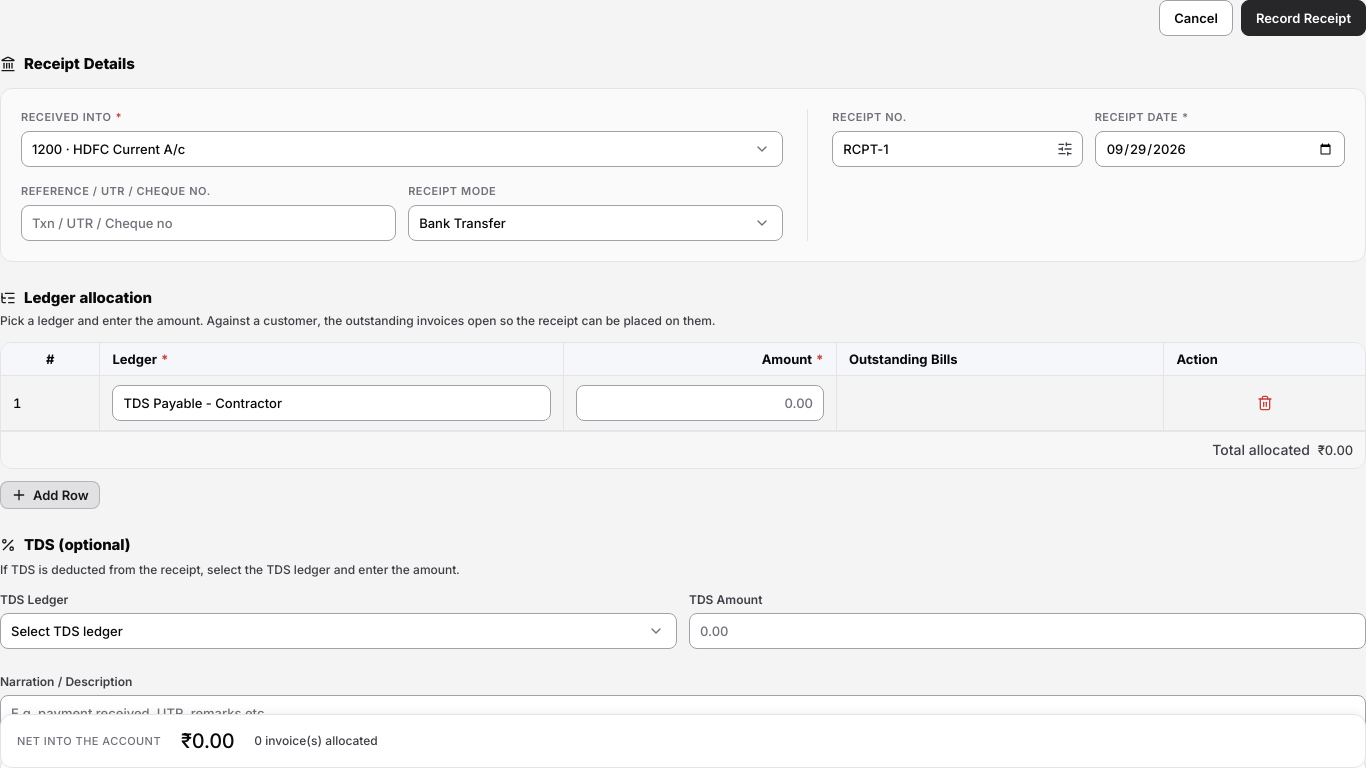
it: money against a customer › names the part left over when only some of it lands on an invoice
The width and height of the screenshot is (1366, 768).
Type "ABC" into the dropdown named "Account, allocation row 1" at (332, 403), box [112,385,551,421]
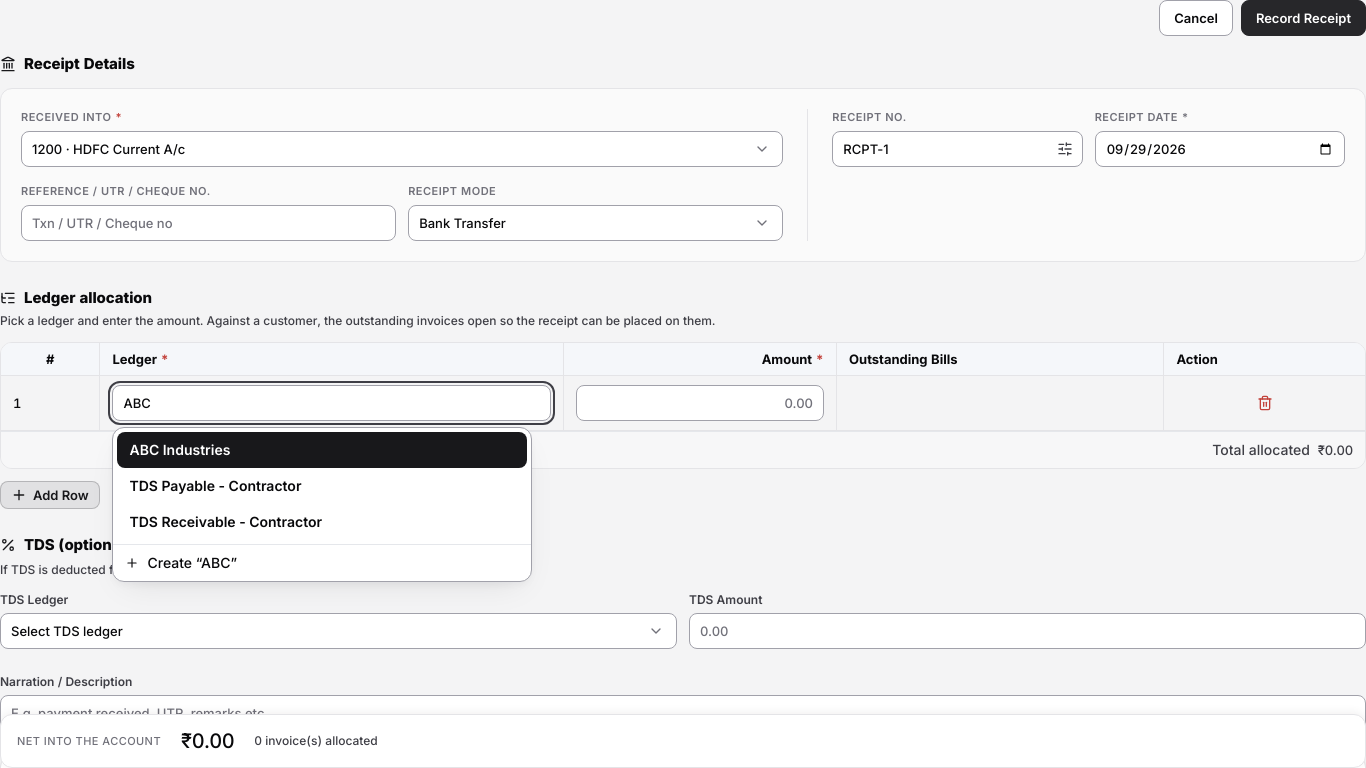
Click the option "ABC Industries" at (180, 450), box [118,432,528,468]
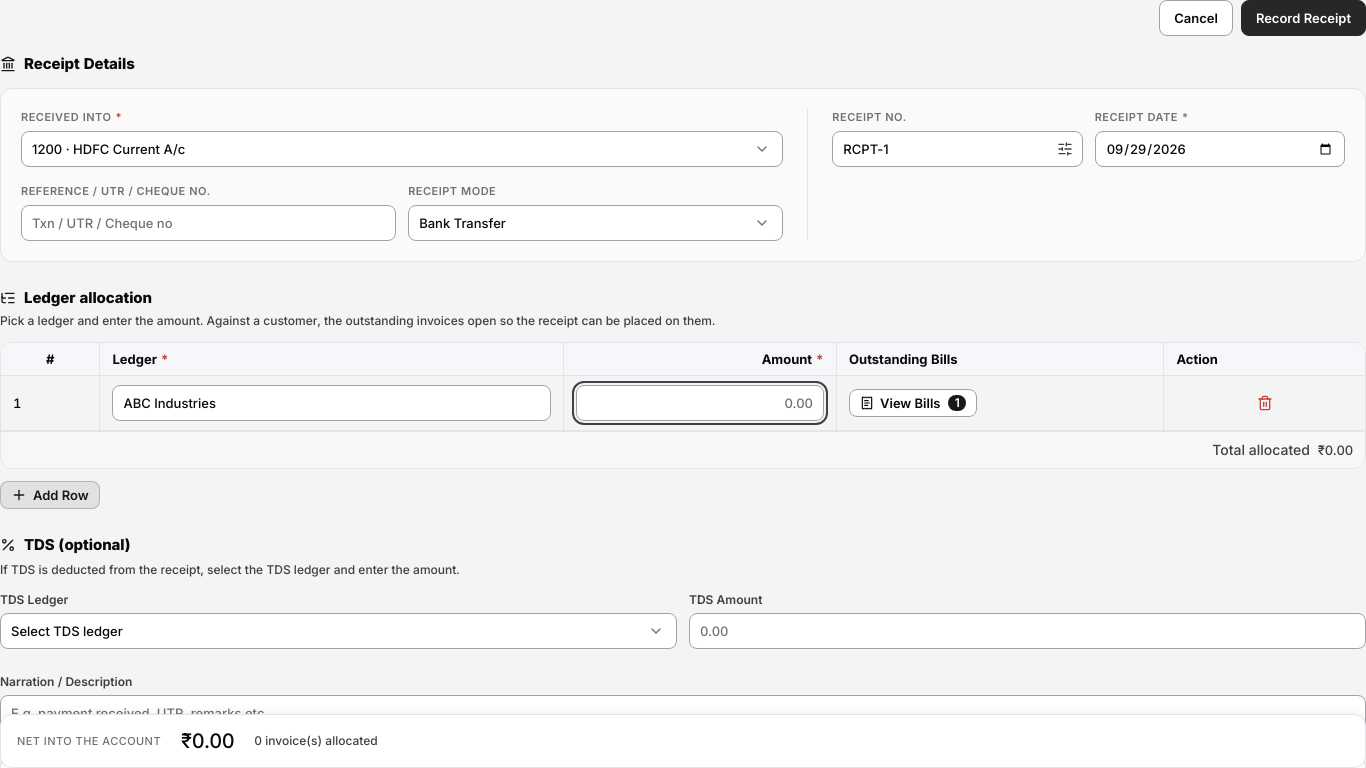
Type "150000" into the number field named "Amount, allocation row 1" at (700, 403), box [576,385,824,421]
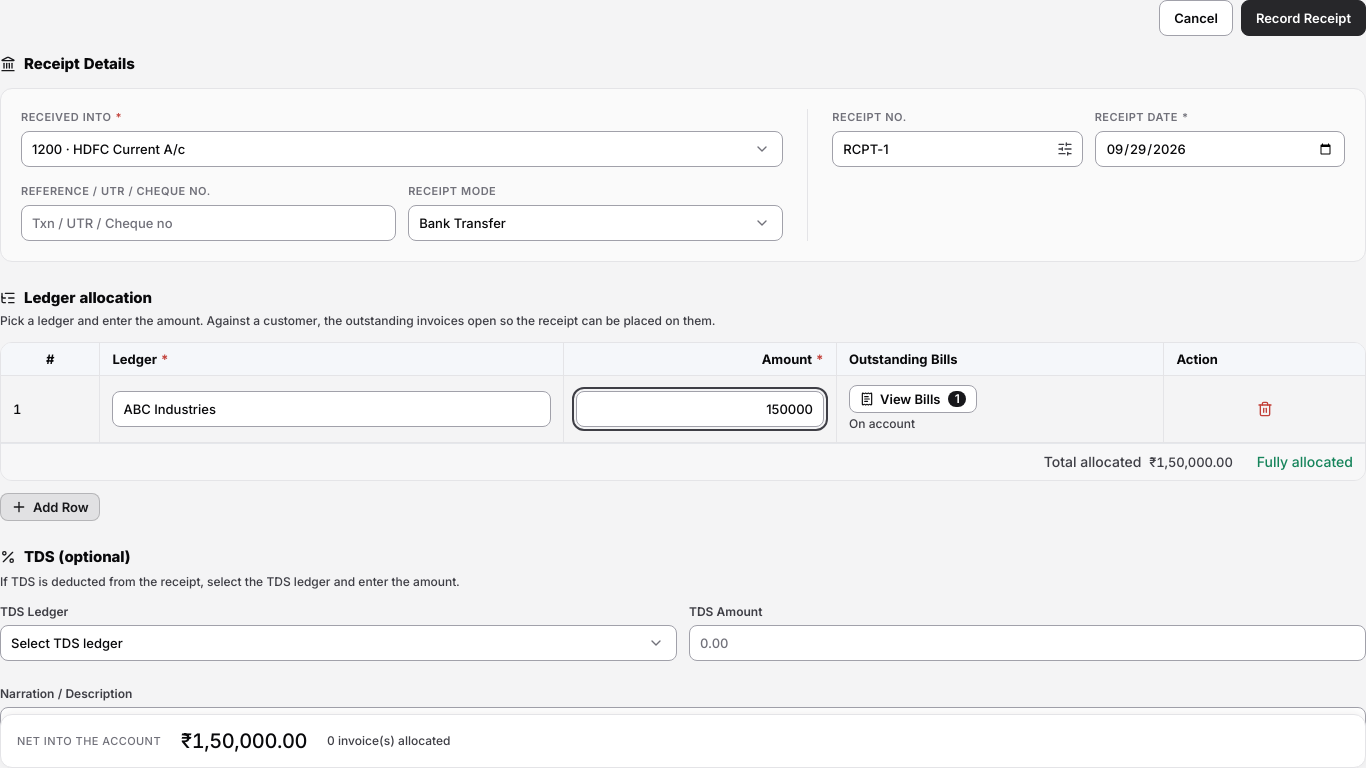
Leave the number field named "Amount, allocation row 1", box [576,391,824,427]
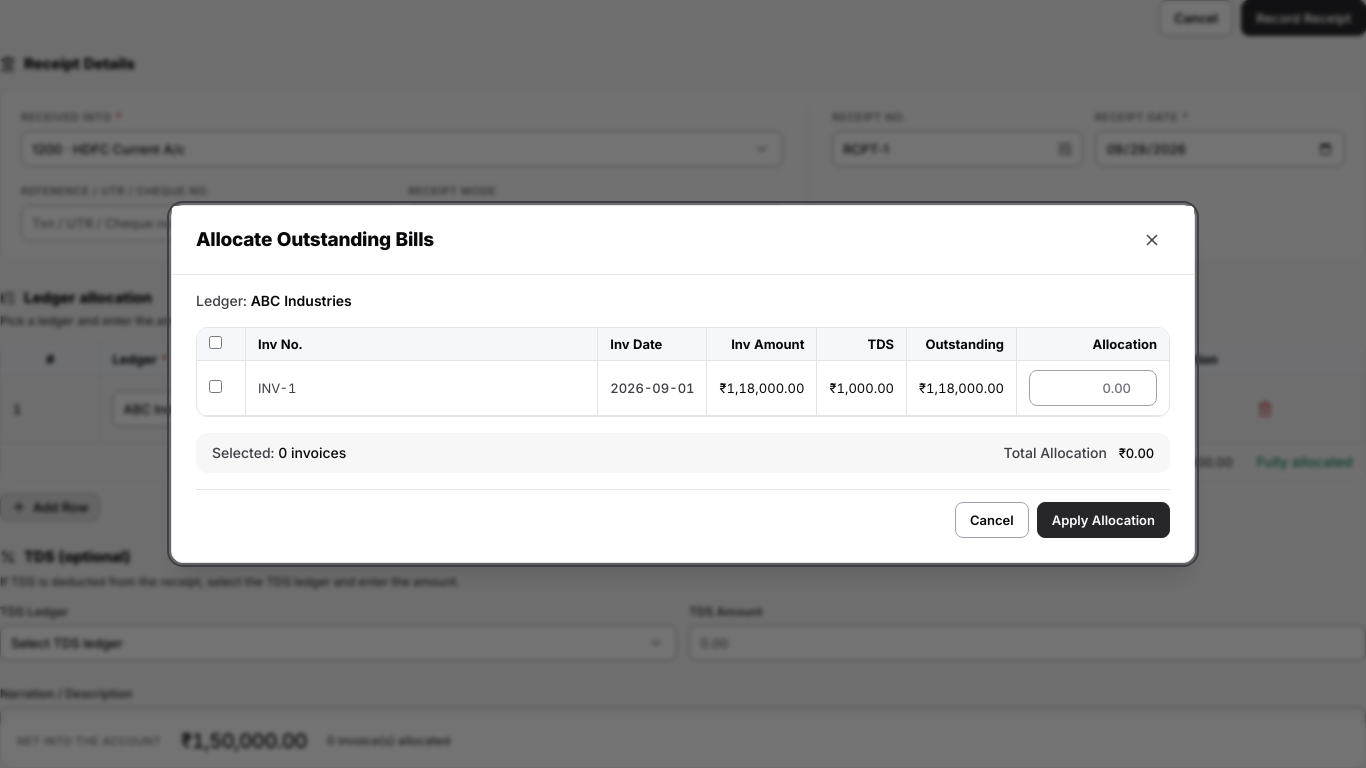
Expected: the heading "Allocate Outstanding Bills" is shown, [196,226,434,254]
Click the checkbox named "Allocate against INV-1" at (216, 386), box [209,380,222,393]
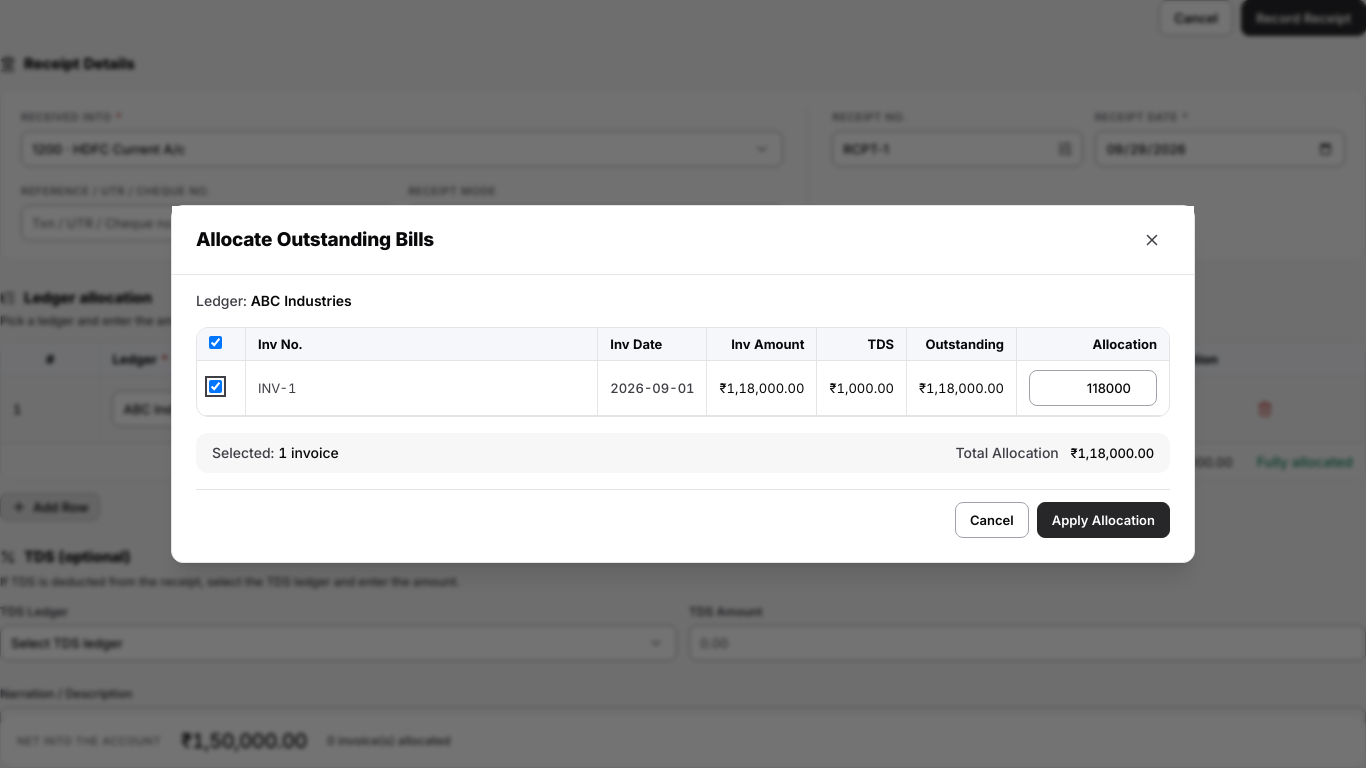
Click the button "Apply Allocation" at (1103, 520), box [1037,502,1170,538]
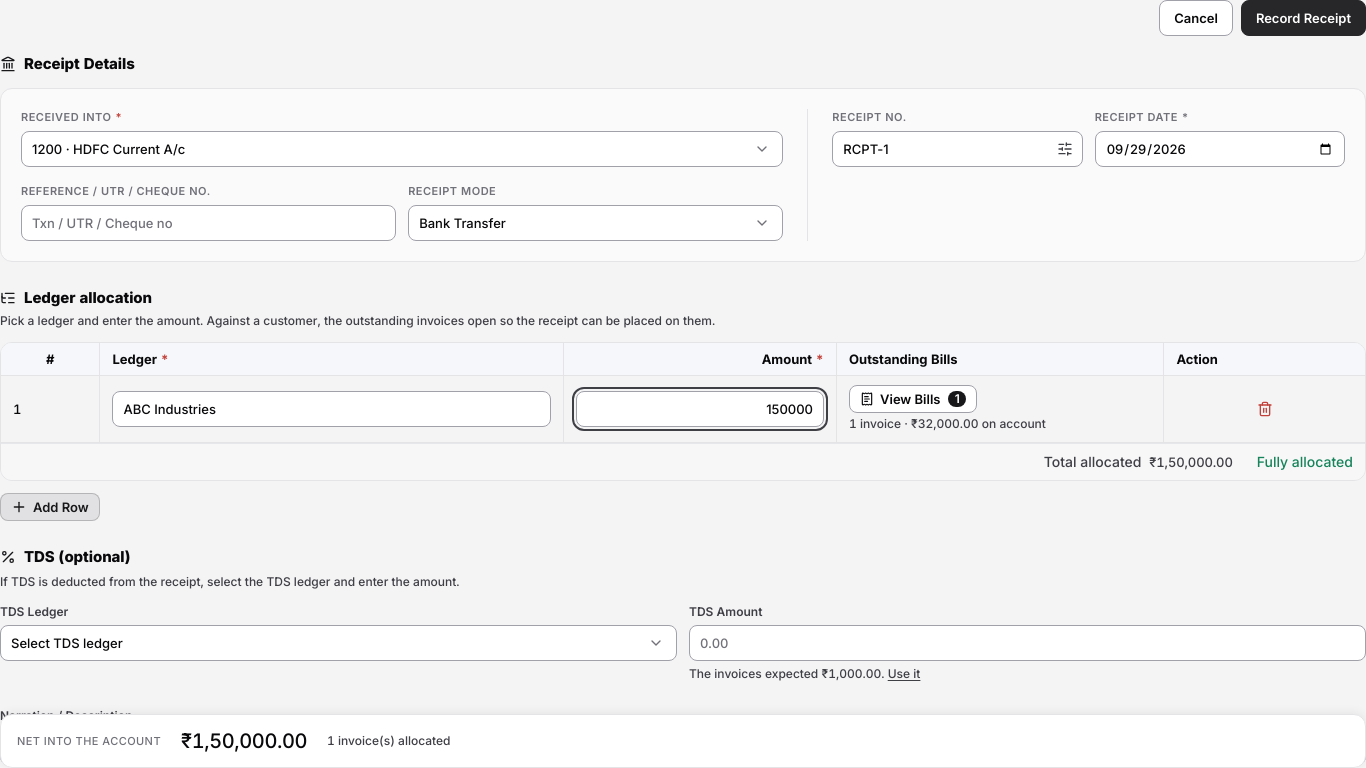
Expected: the text "1 invoice · ₹32,000.00 on account" is shown, [849,416,1046,431]
